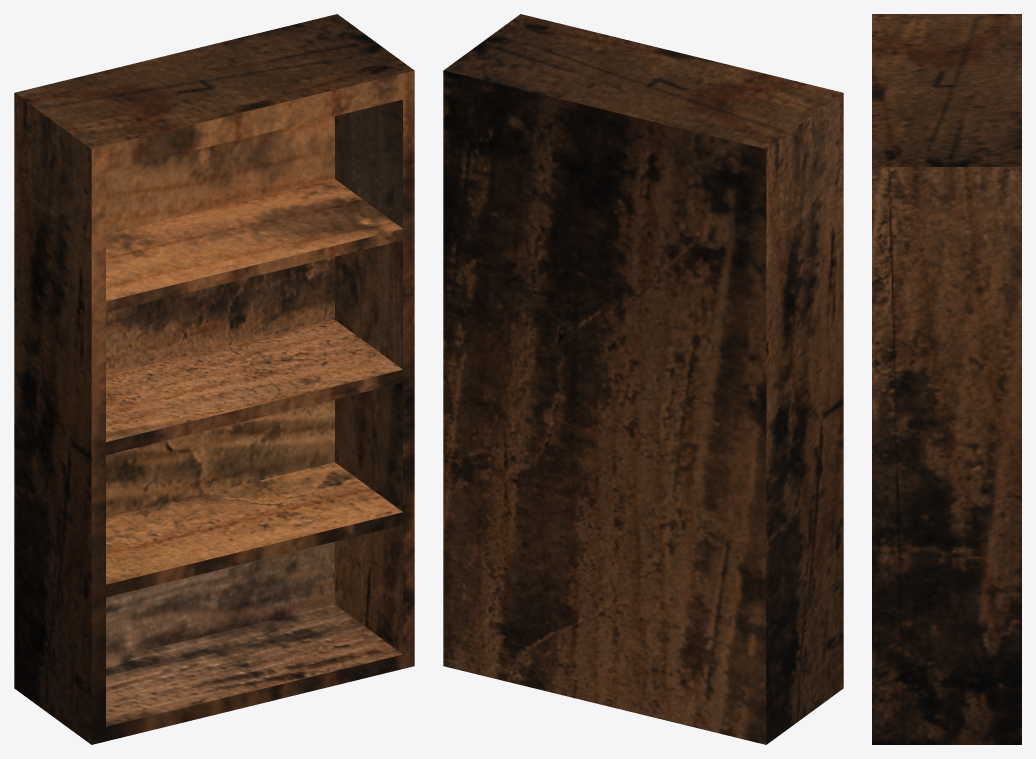
File: bookshelf.fbx
3 views of the same model, side by side, from view 1: azimuth 30°, elevation 25°; view 2: azimuth 150°, elevation 25°; view 3: azimuth 270°, elevation 25° (orthographic). The views are drawn at different scales.
Visible parts, largest first — view 1: polySurface4; view 2: polySurface4; view 3: polySurface4.
Boxes of the visible parts, x1=… form: polySurface4: x1=14, y1=14, x2=414, y2=744; polySurface4: x1=443, y1=14, x2=843, y2=744; polySurface4: x1=872, y1=14, x2=1021, y2=744.
Size of the model in its own units: 5.56 by 9.8 by 2.3.
1 material, 1 textured.
